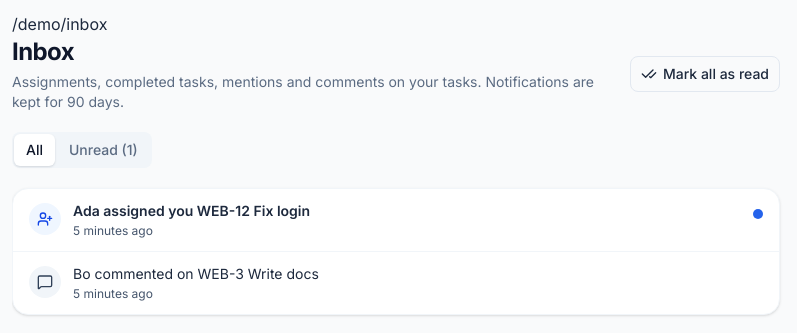
Test case: InboxPage › marks all as read
Step 1. Click the button "Mark all as read" → {"x": 705, "y": 74}, box [630,56,780,92]
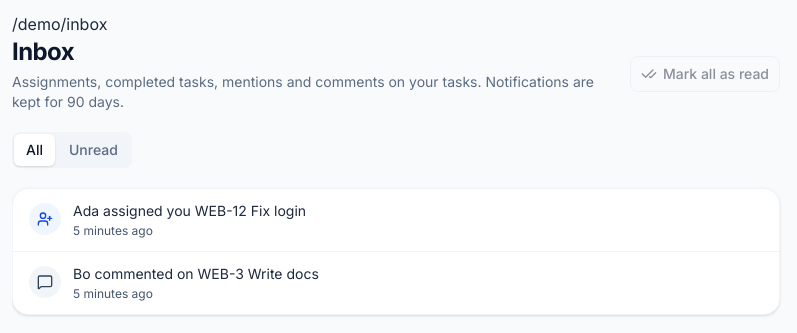
Result: the button "Mark all as read" is disabled at [630,56,780,92]
